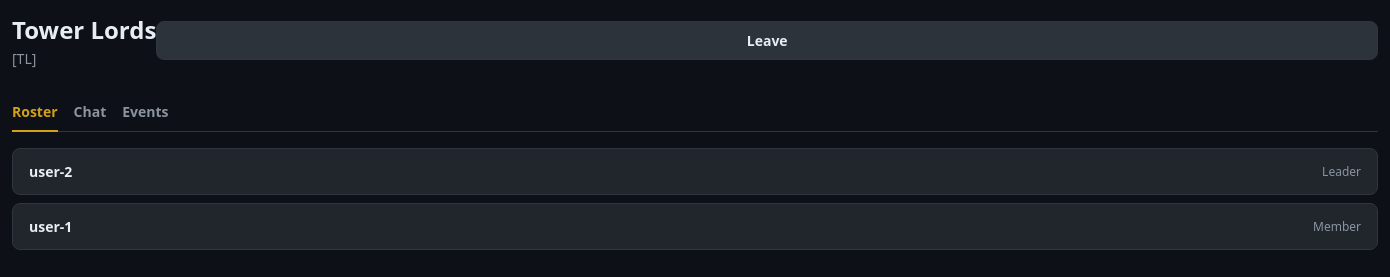
Test case: Alliance — in an alliance › switches to the chat stub tab
The image size is (1390, 277).
Expected: the heading "Tower Lords" is shown, [12,12,156,48]
Click the tab "Chat".
click(90, 112)  # box [74,93,106,132]
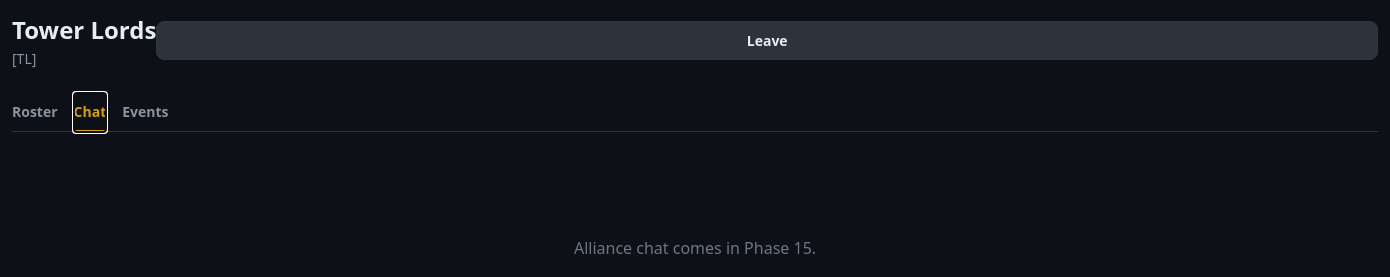
Now the text "Alliance chat comes in Phase 15." is shown, box [574,236,816,260]
